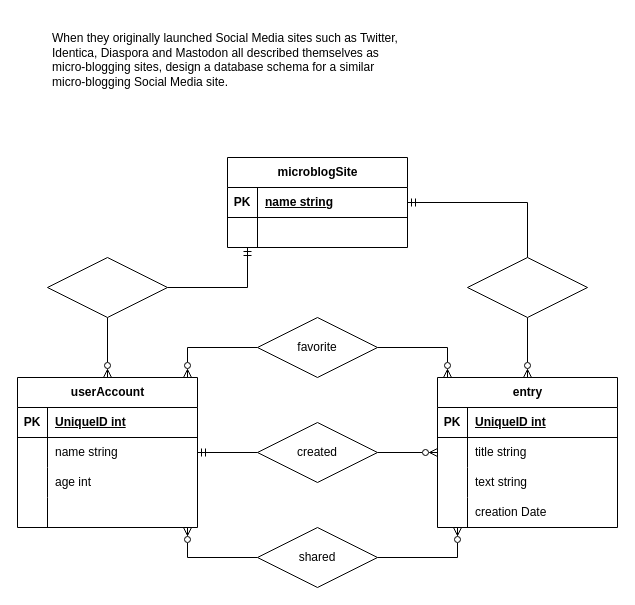
The diagram is 635 pixels wide and 605 high, and some of its shapes have lost their labels. The shapes that lost their labels are listed below. From the top down, each one's centre as x and y in pixels, then its label:
pixel 107 287: partOf
pixel 527 287: contains
